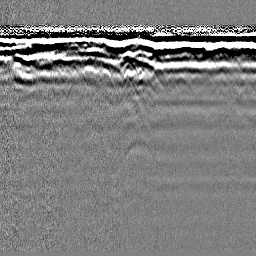cavity: (118, 49, 135, 63)
